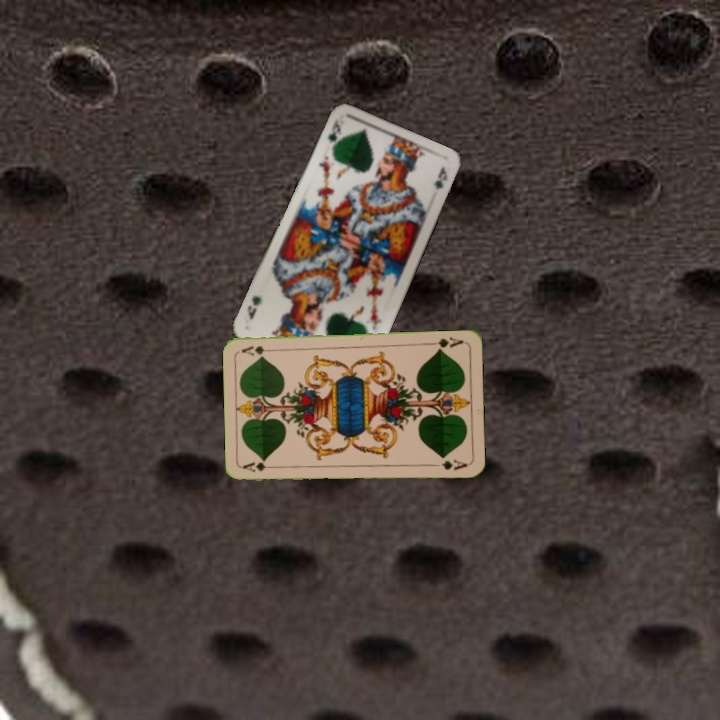GA: (426, 333, 466, 353), (240, 459, 280, 475)
GK: (324, 115, 342, 145)
